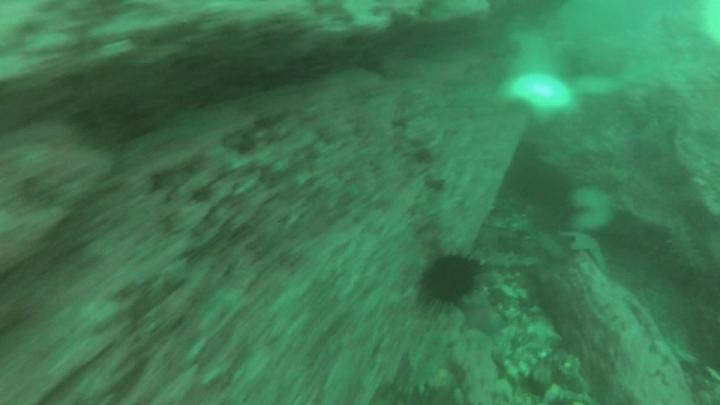echinus: (422, 247, 483, 310)
holothurian: (665, 215, 709, 273), (468, 243, 537, 271), (574, 164, 633, 188)
starfish: (562, 227, 612, 270)
